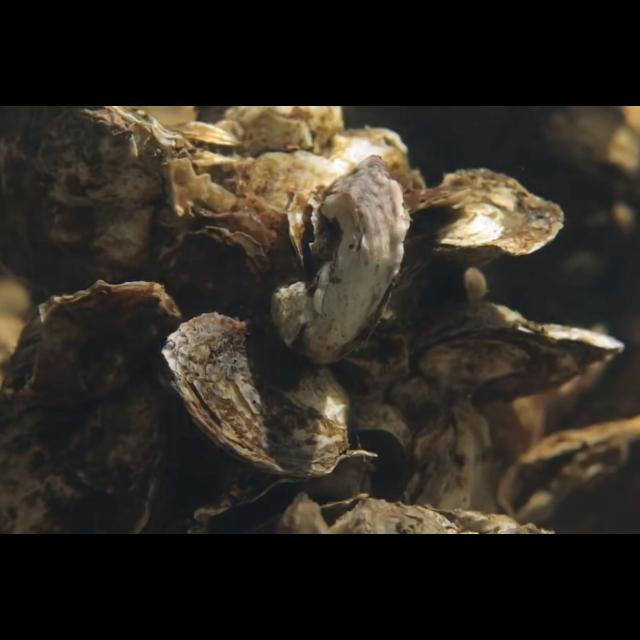Oyster-Closed: (0, 279, 184, 535), (0, 106, 216, 302), (158, 311, 352, 481), (268, 154, 410, 366), (389, 168, 566, 294), (400, 398, 498, 534), (152, 225, 270, 327)
Oyster-Open: (407, 300, 627, 406), (497, 421, 640, 535), (193, 450, 379, 534), (162, 120, 242, 170)
